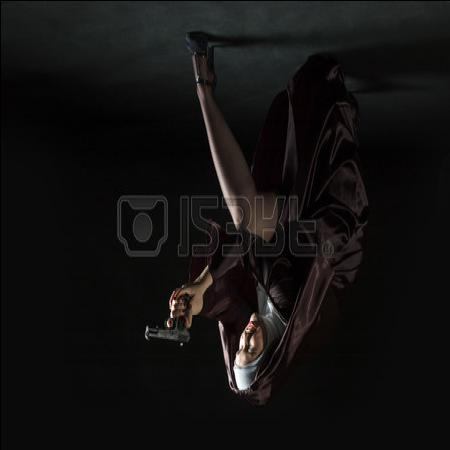Pistol: (142, 292, 190, 350)
